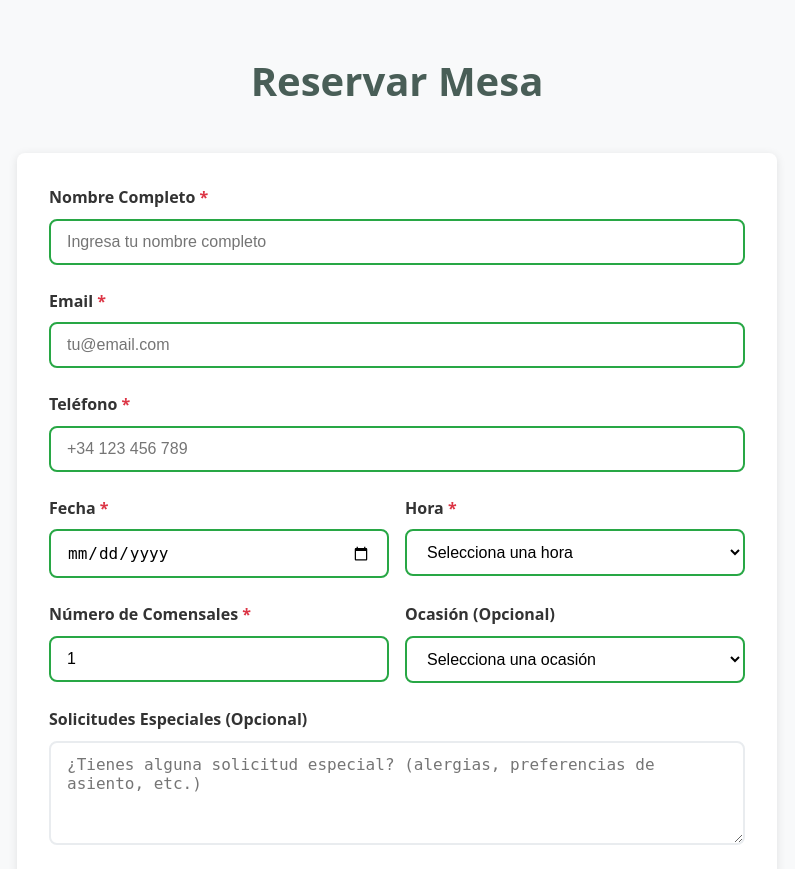
Test: BookingForm › validates phone format
In the field labelled "Teléfono": (397, 449) [49,426,745,472], type "123"
(page scrolled)
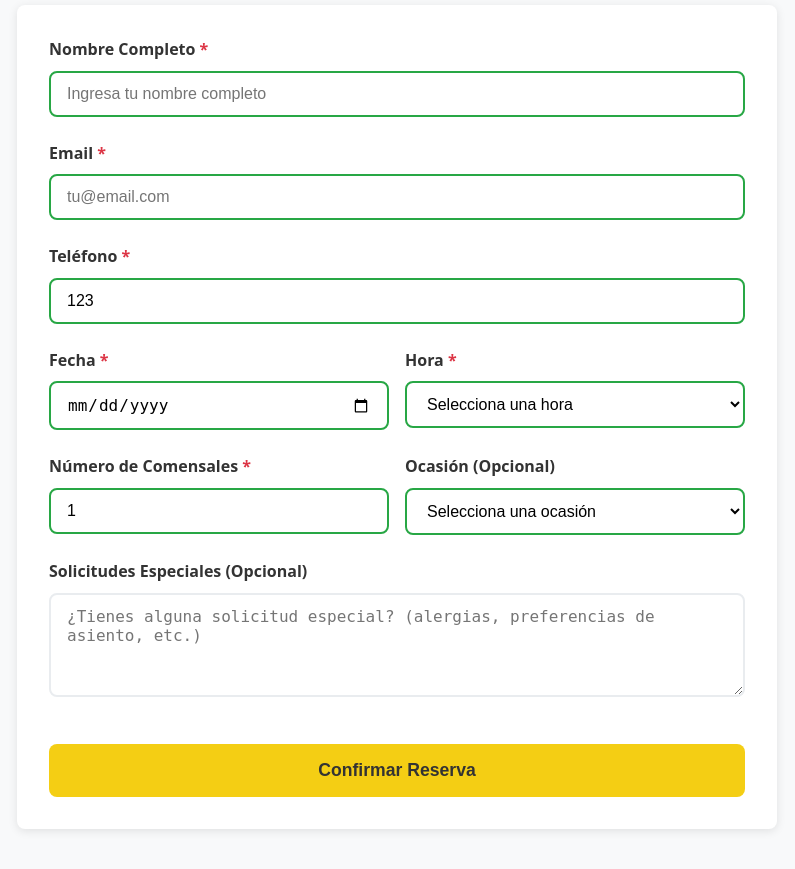
Click the button "Confirmar Reserva": (397, 771) [49,744,745,797]
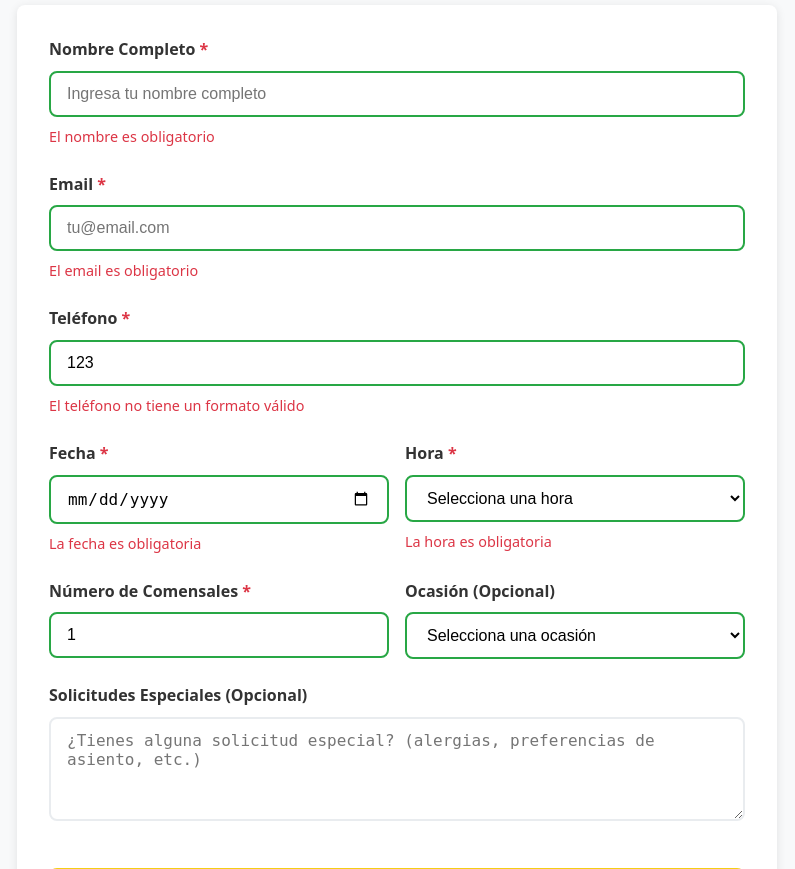
Now the text "El teléfono no tiene un formato válido" is shown, box [49,396,304,415]
